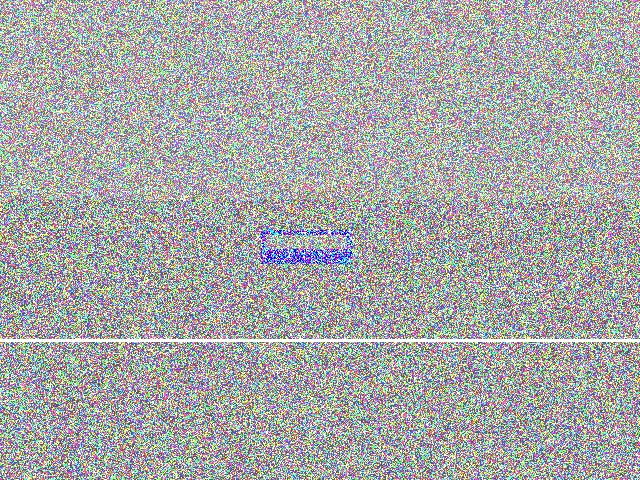car: (458, 294, 570, 433)
motorcycle: (513, 187, 602, 322)
